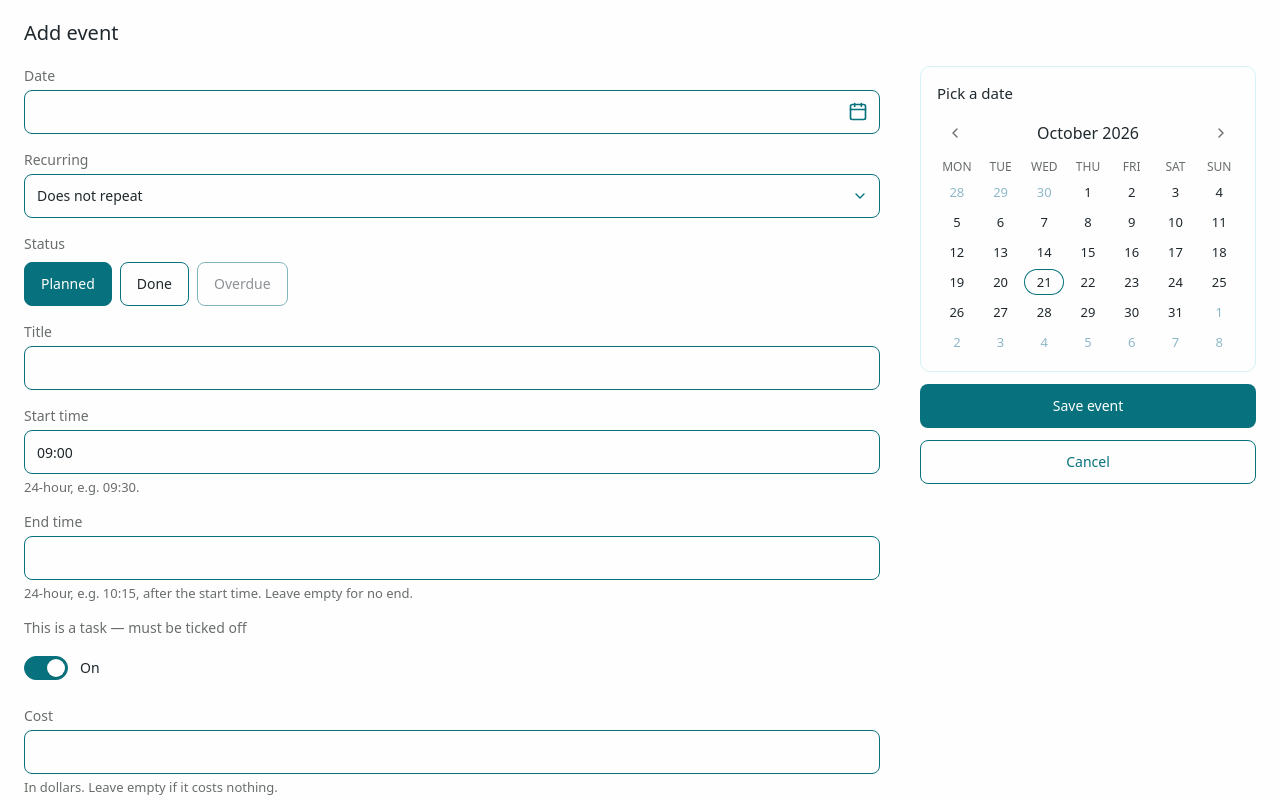
Test: [CAR-07][AC-08] the Family screens are unchanged › [CAR-07][AC-08] T-08 the Family Add event keeps its Cost fields and returns to Family Home, and a refused save keeps the generic message
Expected: the field labelled "Cost" is shown, [24,730,880,774]
Click the button with test id "^date-picker-day-" at {"x": 957, "y": 192}, box [937,179,977,205]
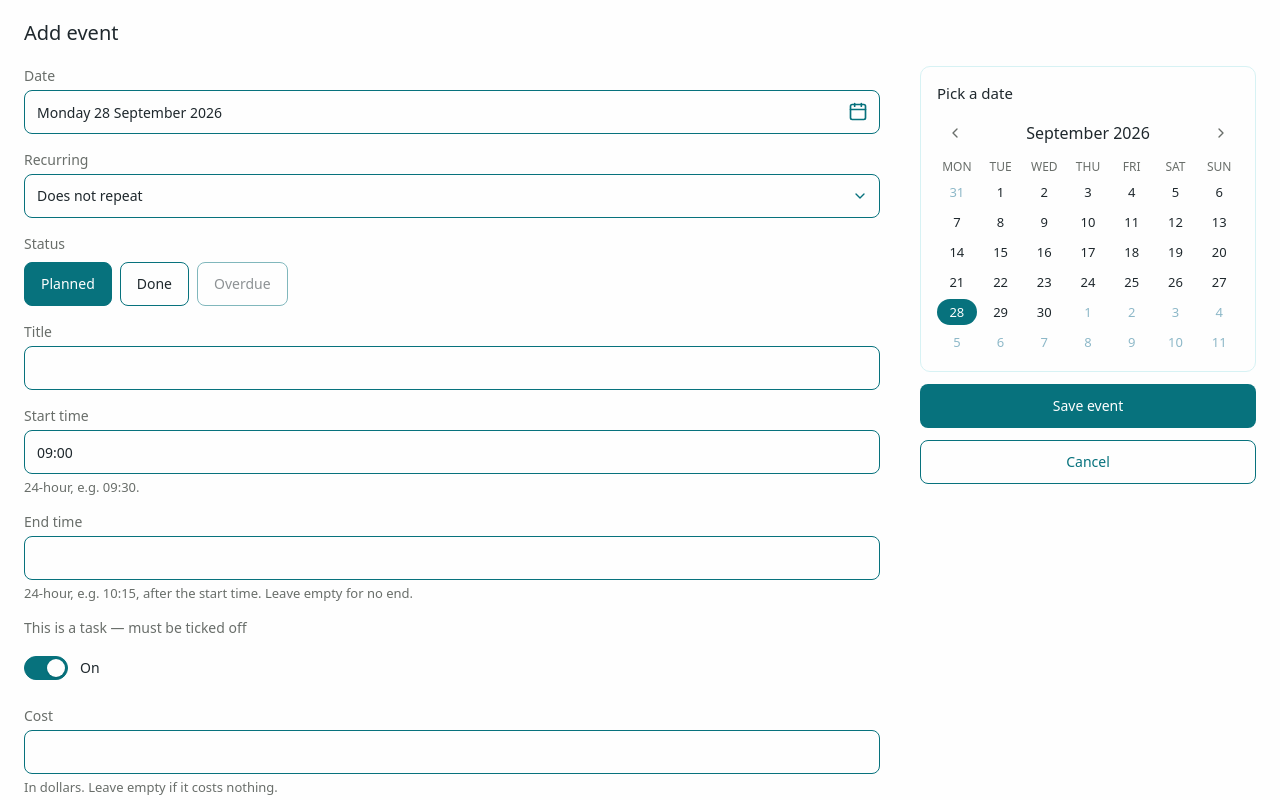
Type "Walk in the garden" into the field labelled "Title" at {"x": 452, "y": 368}, box [24,346,880,390]
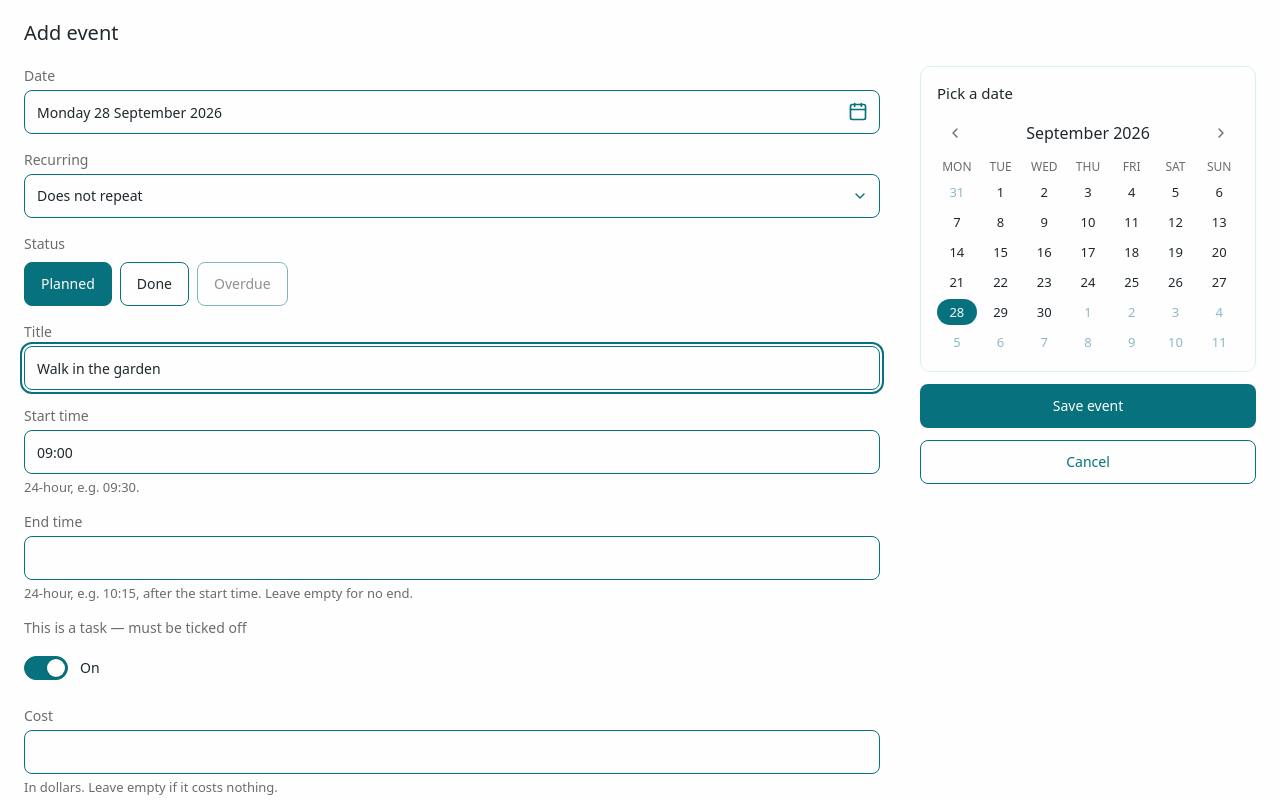
Click the button "Save event" at {"x": 1088, "y": 406}, box [920,384,1256,428]
(page scrolled)
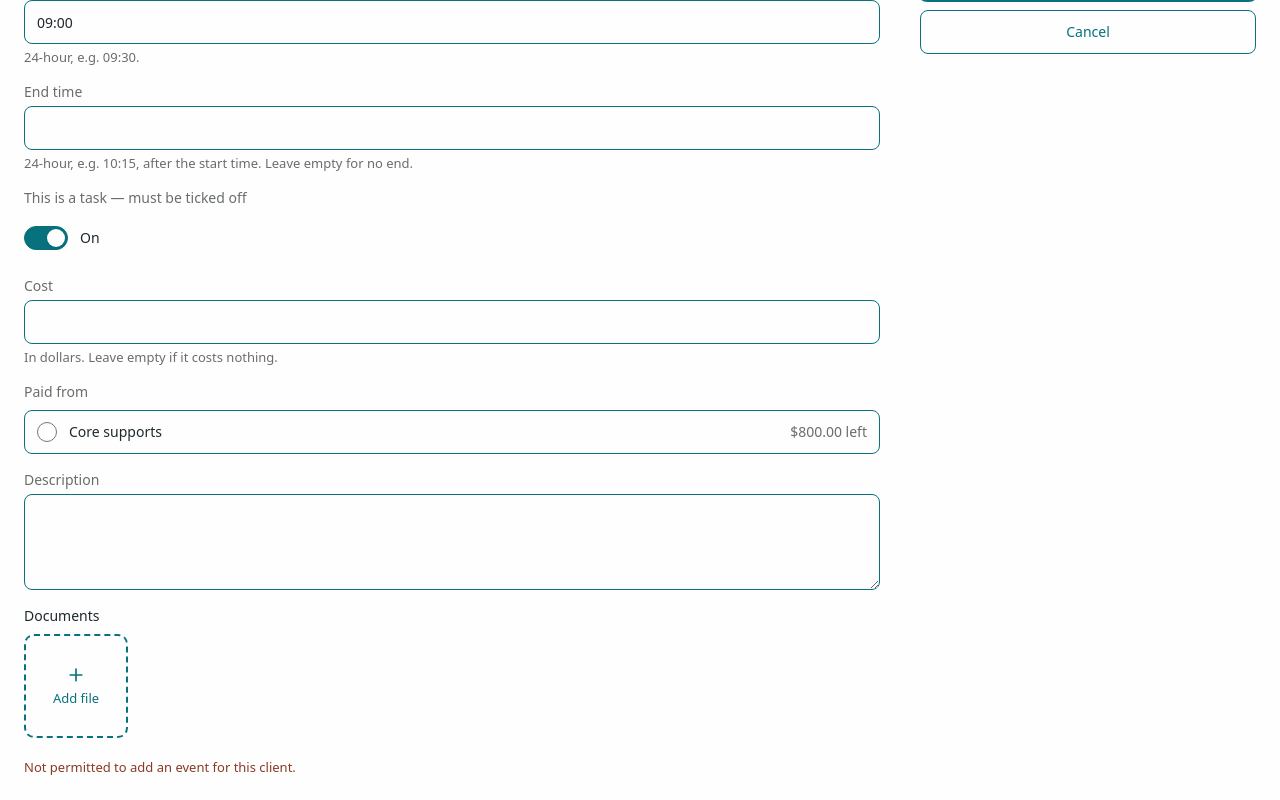
Now the text "Not permitted to add an event for this client." is shown, box [24,758,296,776]
